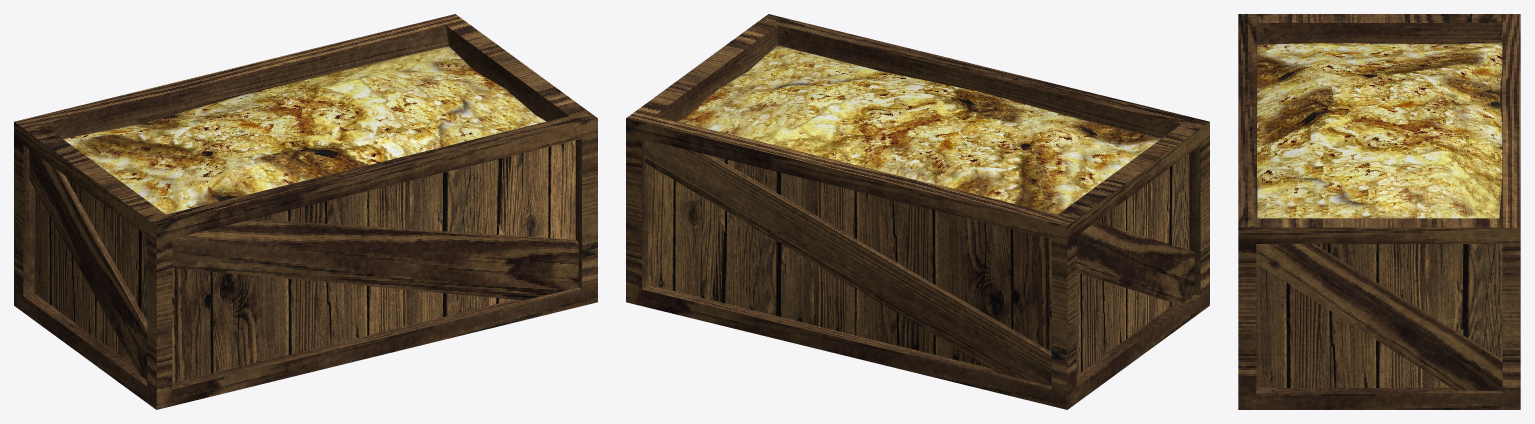
The model's file is GoldCrate.glb.
3 views of the same model, side by side, from view 1: azimuth 30°, elevation 25°; view 2: azimuth 150°, elevation 25°; view 3: azimuth 270°, elevation 25° (orthographic).
Parts seen in each view (by area): view 1: GoldCrate; view 2: GoldCrate; view 3: GoldCrate.
Boxes of the visible parts, <box> form: GoldCrate: <box>14,14,597,409</box>; GoldCrate: <box>626,14,1209,409</box>; GoldCrate: <box>1238,14,1520,409</box>.
Bounding box in the file's own units: 0.9748 × 0.3882 × 0.545.
1 material, 1 textured.
